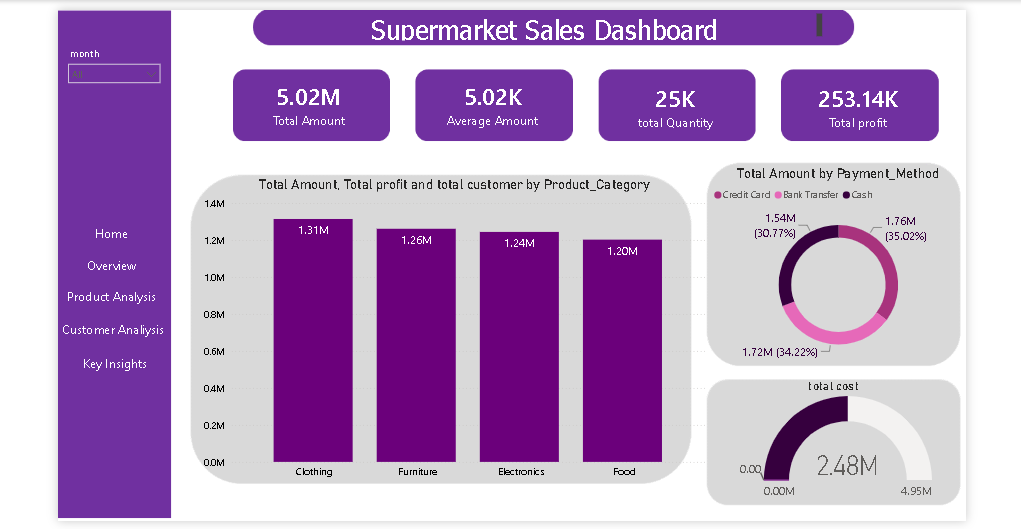

The dashboard page shown, as its layout file describes it:
{"tool":"powerbi","page":{"name":"Overview","canvas":[1280,720],"ordinal":1},"visuals":[{"type":"clusteredColumnChart","fields":{"Category":["Product_Category T.Product_Category"],"Y":["measuratt.Total Amount"]},"box":[198.3,233.3,720,436.7],"z":0},{"type":"donutChart","fields":{"Category":["Payment_Method T.Payment_Method"],"Y":["measuratt.Total Amount"]},"box":[918.3,218.3,361.7,286.7],"z":1000},{"type":"actionButton","box":[17.5,296.2,117.5,37.5],"z":2000},{"type":"actionButton","box":[17.5,341.2,116.9,38.1],"z":3000},{"type":"actionButton","box":[7.5,385,136.2,38.8],"z":4000},{"type":"actionButton","box":[0,431.2,155,38.8],"z":5000},{"type":"actionButton","box":[3.3,478.3,155,38.3],"z":6000},{"type":"gauge","fields":{"Y":["measuratt.total cost"]},"box":[918.3,520,348.3,178.3],"z":7000},{"type":"textbox","box":[295,0,786.7,48.3],"z":8000},{"type":"cardVisual","fields":{"Data":["measuratt.Total Amount"]},"box":[251.1,66.5,206.8,132.9],"z":9000},{"type":"cardVisual","fields":{"Data":["measuratt.Average Amount"]},"box":[500.7,66.5,226,132.9],"z":10000},{"type":"cardVisual","fields":{"Data":["measuratt.total Quantity"]},"box":[766.2,69.1,206.8,132.9],"z":11000},{"type":"cardVisual","fields":{"Data":["measuratt.Total profit"]},"box":[1024.6,69.1,206.8,132.9],"z":12000},{"type":"slicer","fields":{"Values":["Sale_Date T.month"]},"box":[4.4,48.5,149.9,83.8],"z":13000}]}

Visuals, with their boxes on the page's 1280x720 design canvas (x1, y1, x2, y2). These are canvas units, not pixel positions in the 1021x529 screenshot, which may show the page scaled, cropped or inside an application window:
clusteredColumnChart - Product_Category T.Product_Category x measuratt.Total Amount: Rect(198, 233, 918, 670)
donutChart - Payment_Method T.Payment_Method x measuratt.Total Amount: Rect(918, 218, 1280, 505)
actionButton: Rect(18, 296, 135, 334)
actionButton: Rect(18, 341, 134, 379)
actionButton: Rect(8, 385, 144, 424)
actionButton: Rect(0, 431, 155, 470)
actionButton: Rect(3, 478, 158, 517)
gauge - measuratt.total cost: Rect(918, 520, 1267, 698)
textbox: Rect(295, 0, 1082, 48)
cardVisual - measuratt.Total Amount: Rect(251, 66, 458, 199)
cardVisual - measuratt.Average Amount: Rect(501, 66, 727, 199)
cardVisual - measuratt.total Quantity: Rect(766, 69, 973, 202)
cardVisual - measuratt.Total profit: Rect(1025, 69, 1231, 202)
slicer - Sale_Date T.month: Rect(4, 48, 154, 132)
